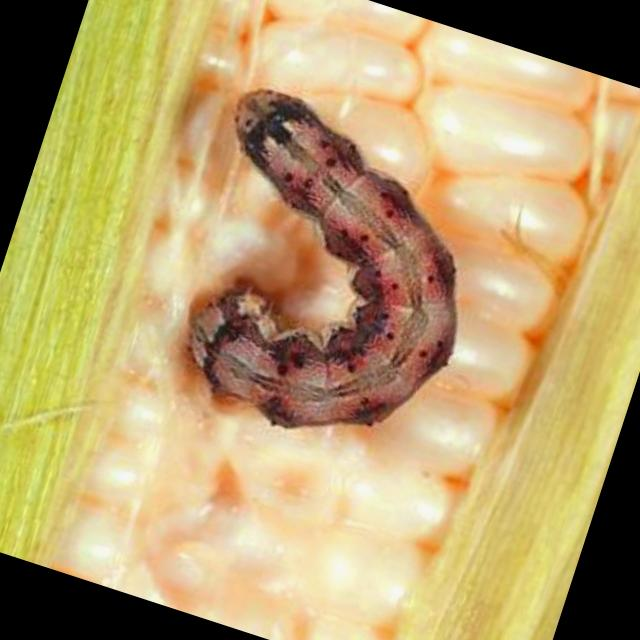Cotton bollworm: (120, 64, 536, 490)
